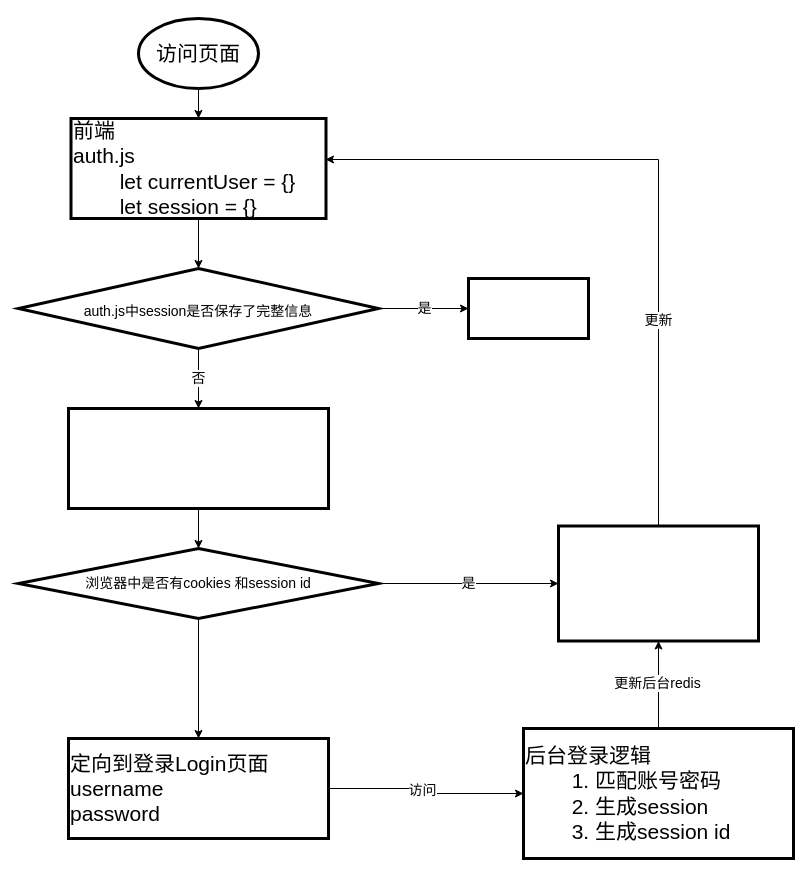
This 812x877 diagram has some shape labels left out. Each missing label, with the box of its shape:
浏览器 cookies session id: (66, 406, 330, 510)
调用后台redis redis session: (556, 524, 760, 642)
进入页面: (466, 276, 590, 340)
